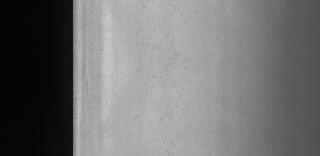silk spot: (130, 3, 188, 135)
